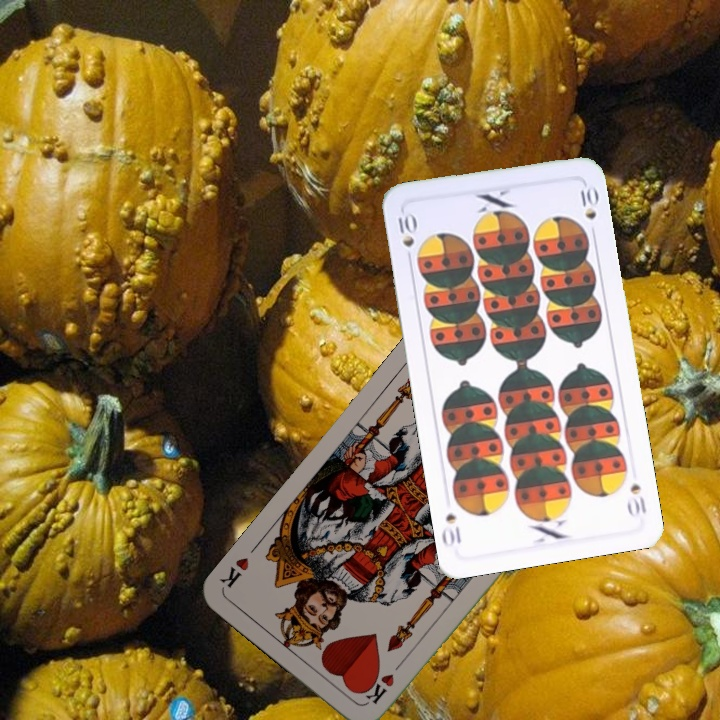HK: (361, 656, 406, 707)
S10: (393, 208, 419, 250), (623, 479, 649, 521)
